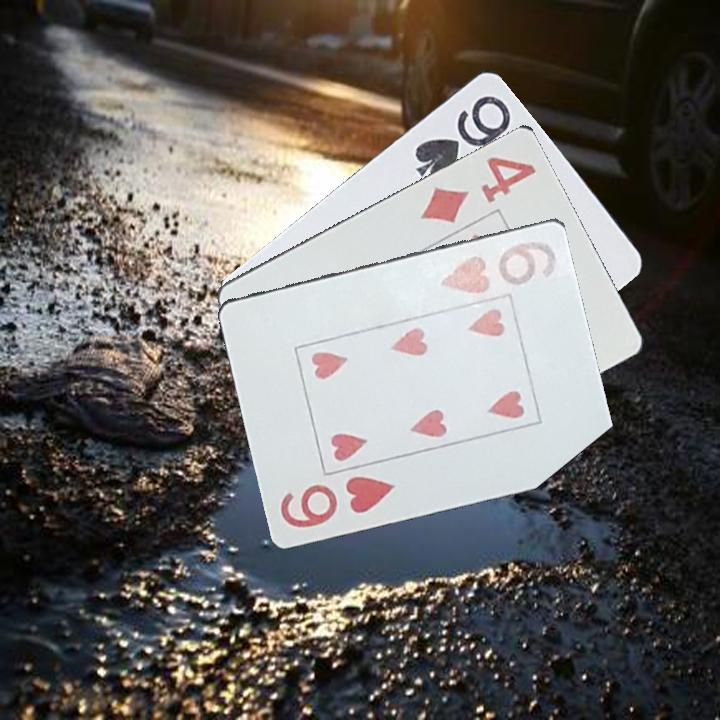4d: (417, 152, 540, 226)
6h: (434, 234, 560, 296), (277, 471, 398, 531)
9s: (411, 91, 514, 184)
